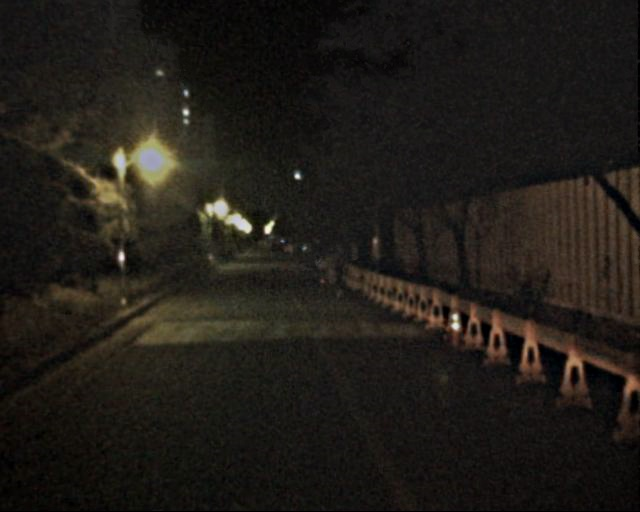person: (331, 244, 347, 284), (299, 245, 315, 283), (324, 248, 339, 284), (291, 244, 303, 273)
